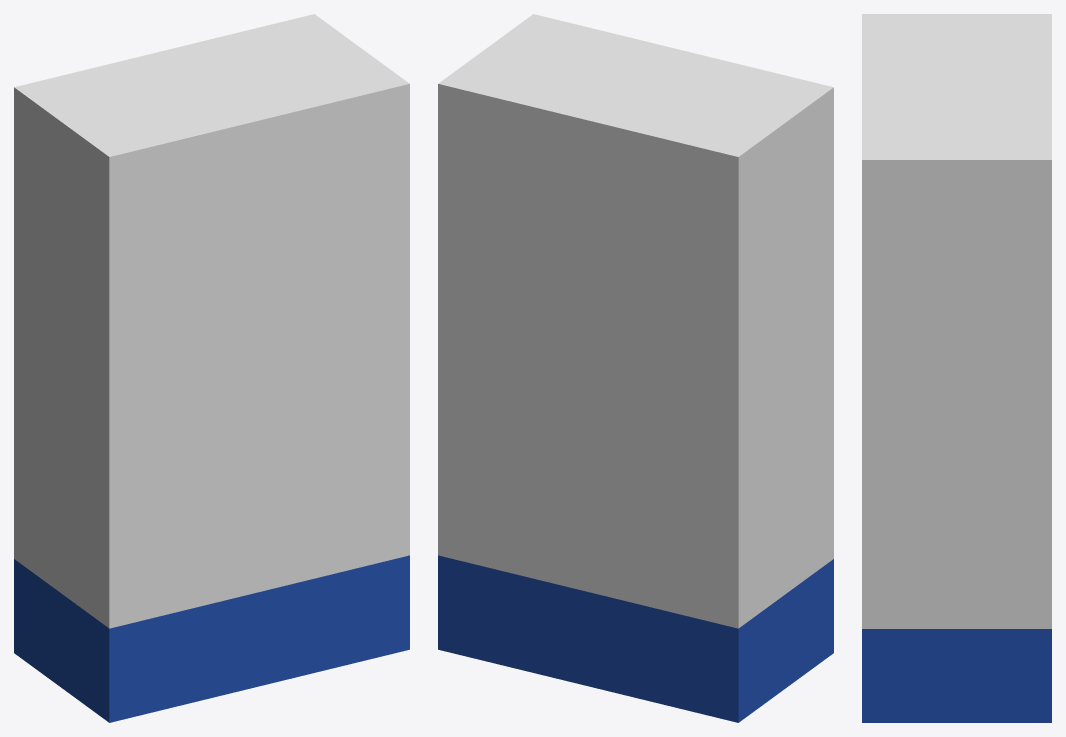
The model's file is j1_torso.obj.
3 views of the same model, side by side, from view 1: azimuth 30°, elevation 25°; view 2: azimuth 150°, elevation 25°; view 3: azimuth 270°, elevation 25° (orthographic).
Bounding box in the file's own units: 0.4 × 0.72 × 0.22.
2 materials, 2 textured.
